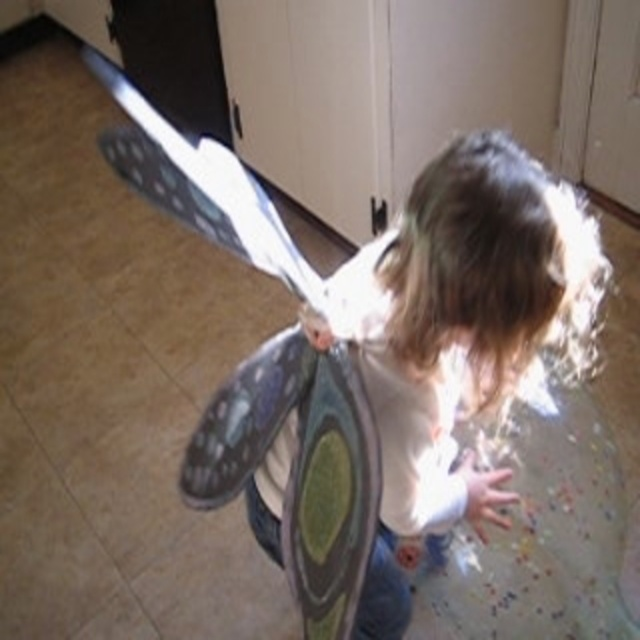Butterfly: (82, 48, 386, 632)
